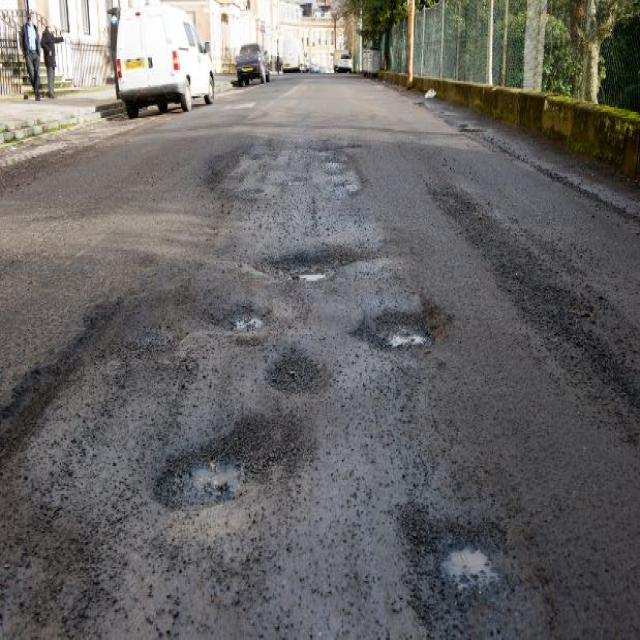pothole: (398, 488, 519, 638), (153, 408, 295, 509), (353, 298, 454, 356)
